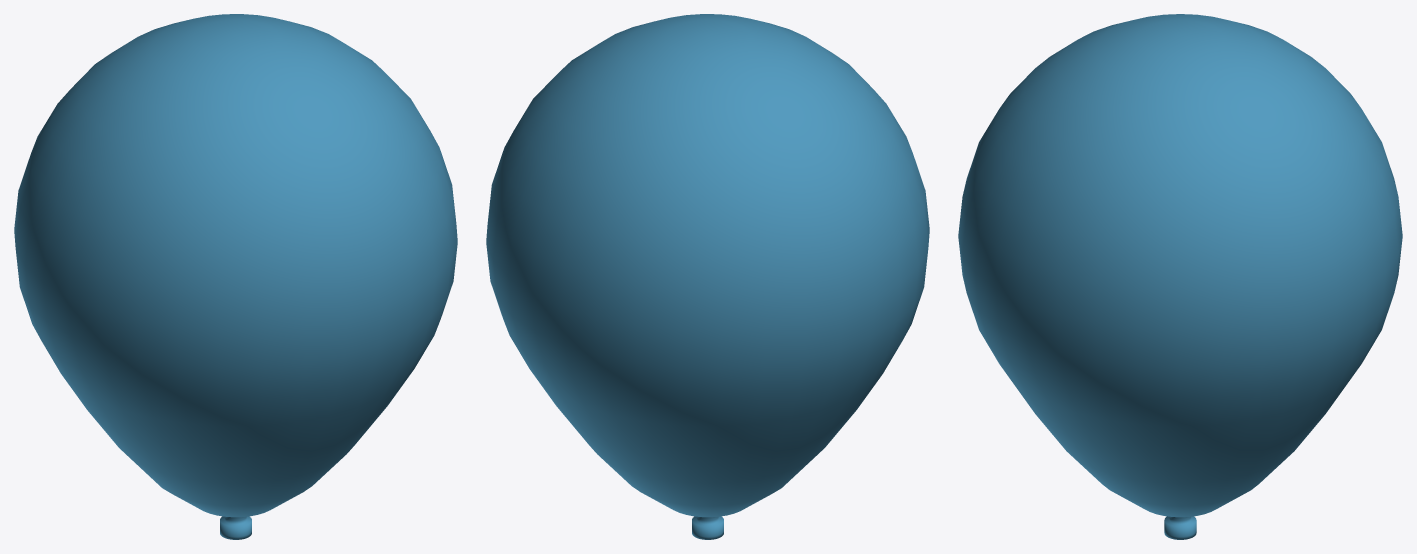
Rendered from balloon.fbx.
3 renders of one model, left to right at view 1: azimuth 30°, elevation 25°; view 2: azimuth 150°, elevation 25°; view 3: azimuth 270°, elevation 25°, orthographic.
Visible parts, largest first — view 1: Balloon; view 2: Balloon; view 3: Balloon.
Boxes of the visible parts, left/top/right/bottom form: Balloon: left=14, top=14, right=457, bottom=539; Balloon: left=486, top=14, right=929, bottom=539; Balloon: left=958, top=14, right=1402, bottom=539.
Size of the model in its own units: 2 by 2 by 2.48.
